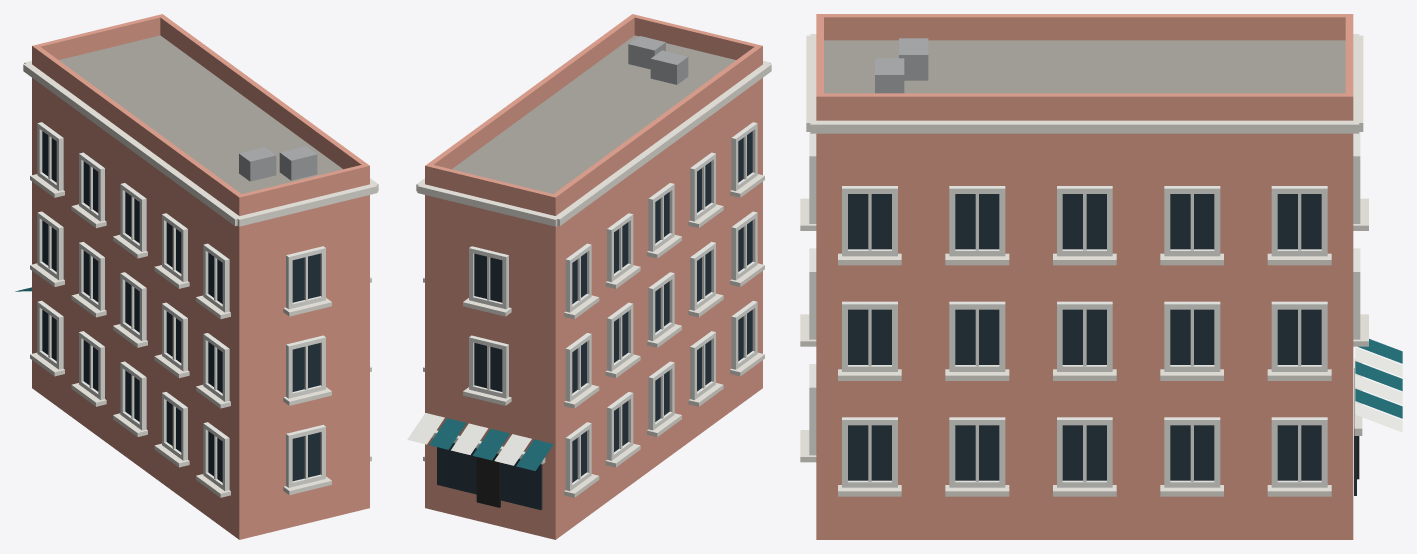
3 renders of one model, left to right at view 1: azimuth 30°, elevation 25°; view 2: azimuth 150°, elevation 25°; view 3: azimuth 270°, elevation 25°, orthographic. The views are drawn at different scales.
Parts seen in each view (by area): view 1: b8708; view 2: b8708; view 3: b8708.
Part boxes in pixels (box(x1,y1,x2,y2)): b8708: box(15, 14, 378, 539); b8708: box(407, 14, 771, 539); b8708: box(800, 14, 1402, 539).
Bounding box in the file's own units: 2309 × 5015 × 6132.
